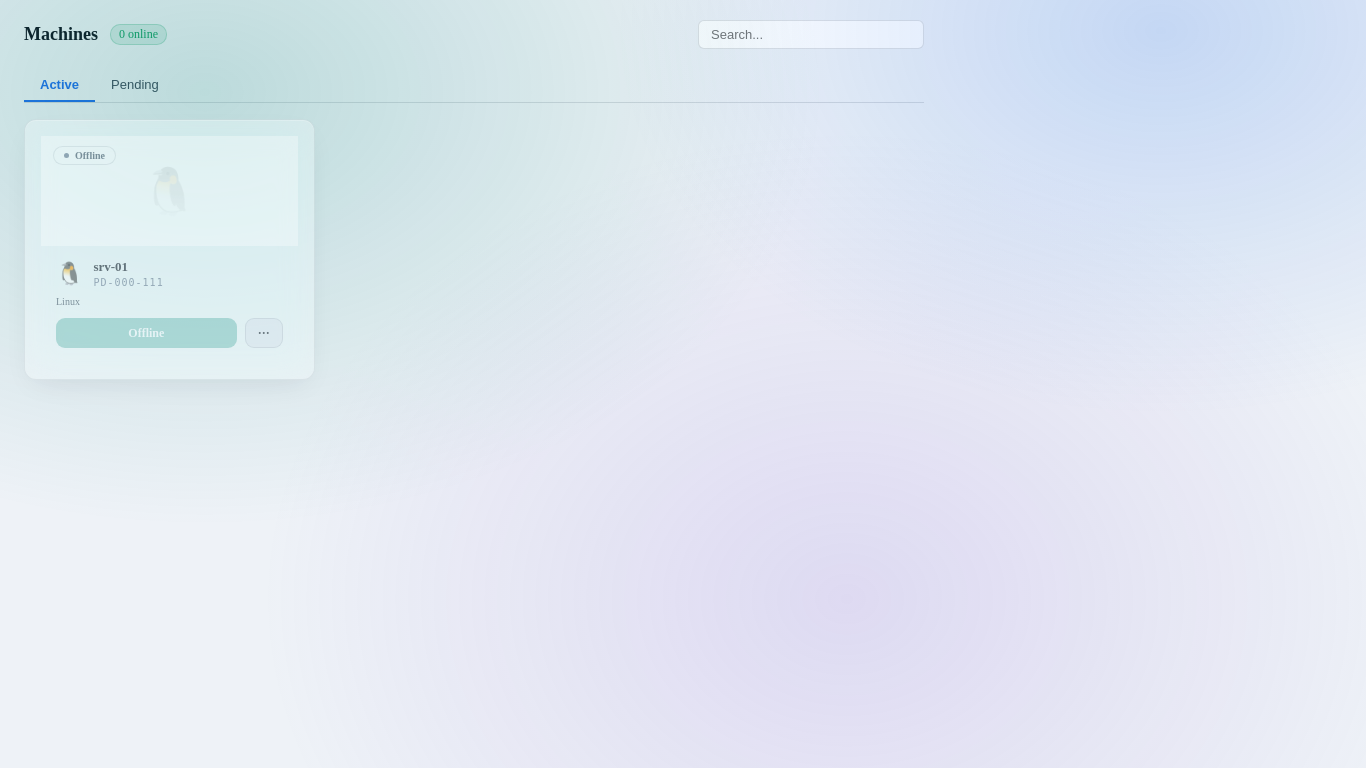
Test: MachinesPage deletion › shows an error toast when the delete fails, instead of failing silently
This screenshot has width=1366, height=768.
Click the button "···": (264, 333) [245,318,283,348]
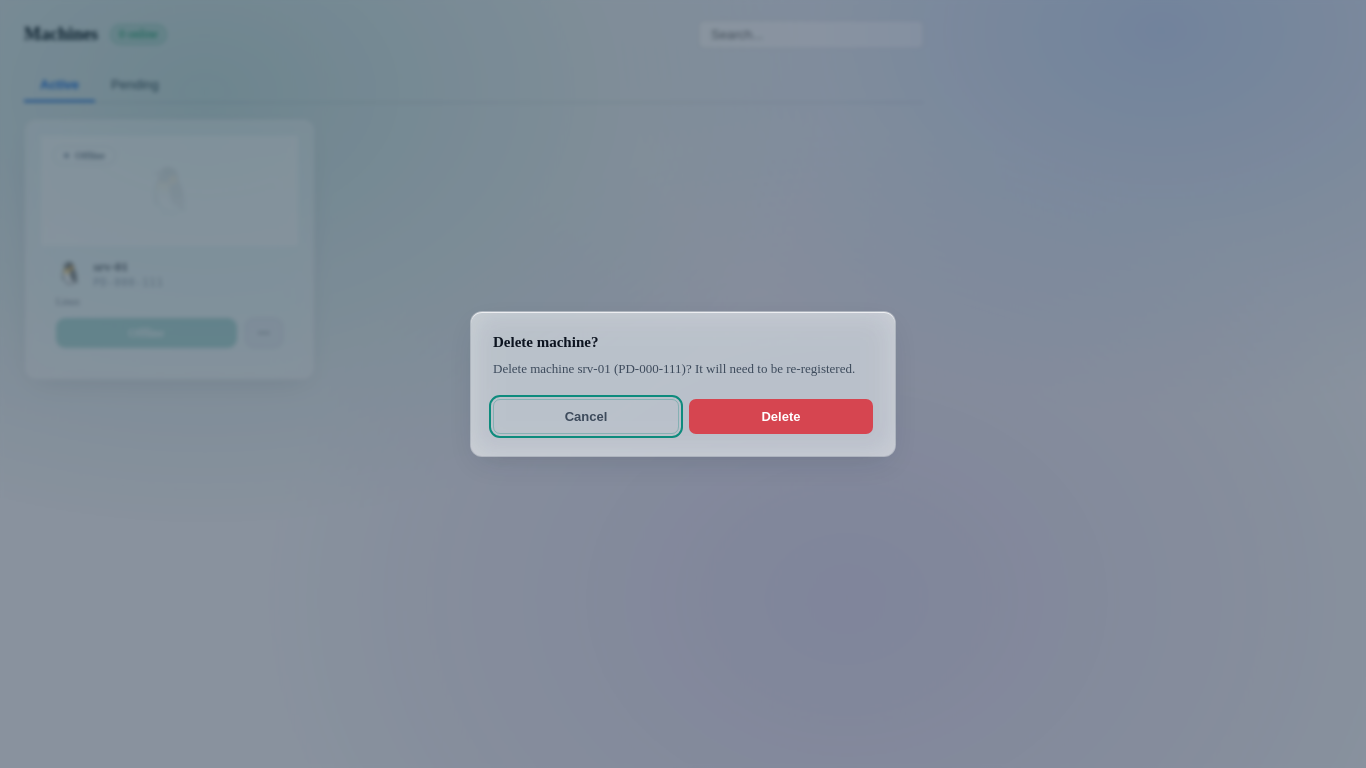
Click the button with test id "confirm-accept": (781, 417) [689,399,873,434]
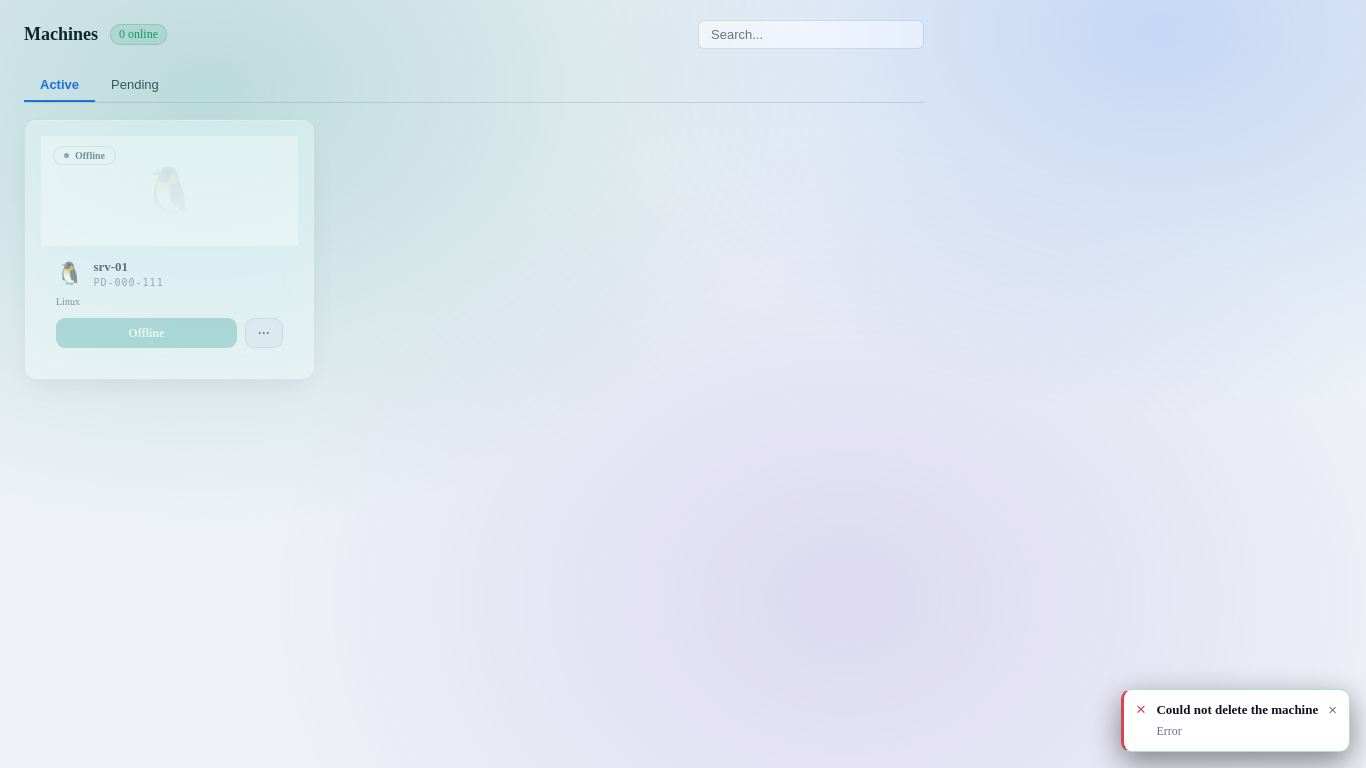
Check: the text "Could not delete the machine" is shown, box [1156,701,1318,720]
